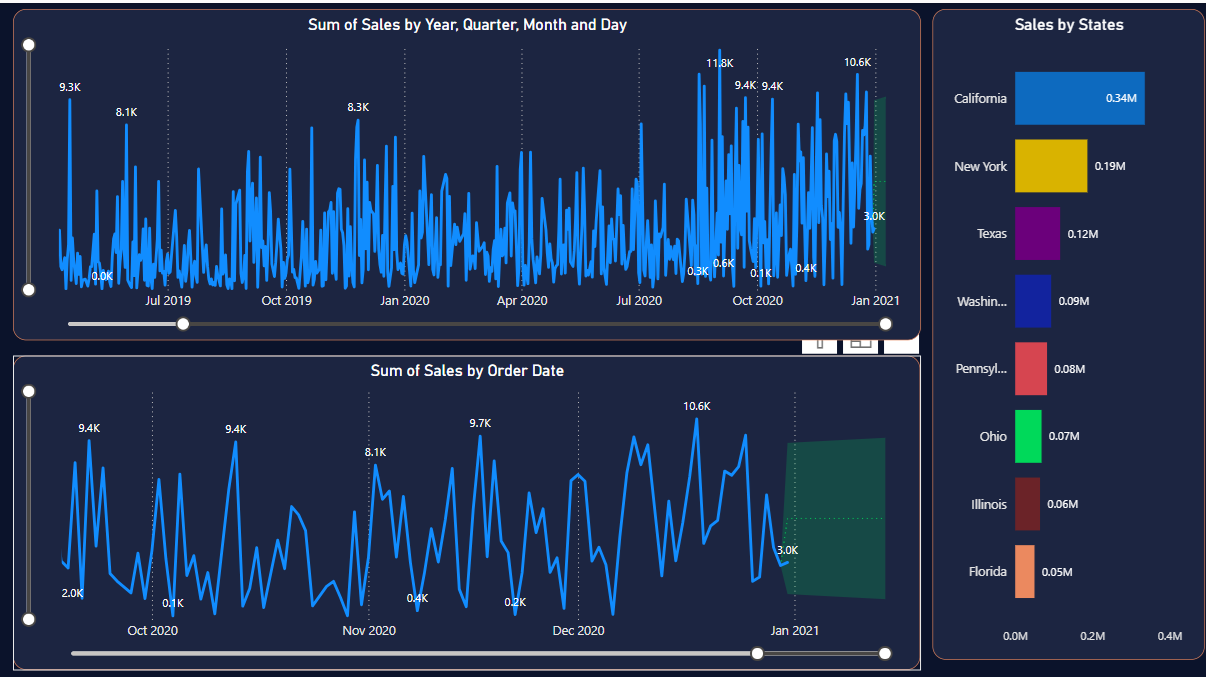

The dashboard page shown, as its layout file describes it:
{"tool":"powerbi","page":{"name":"Page 2","canvas":[1280,720],"ordinal":1},"visuals":[{"type":"lineChart","fields":{"Y":["Sum(SuperStore_Sales_Dataset (1).Sales)"],"Category":["SuperStore_Sales_Dataset (1).Order Date"]},"box":[15.9,374.3,962.3,333.2],"z":0},{"type":"clusteredBarChart","title":"Sales by States","fields":{"Y":["Sum(SuperStore_Sales_Dataset (1).Sales)"],"Category":["SuperStore_Sales_Dataset (1).State"]},"box":[991,6.3,288.5,689.9],"z":1000},{"type":"lineChart","fields":{"Y":["Sum(SuperStore_Sales_Dataset (1).Sales)"],"Category":["SuperStore_Sales_Dataset (1).Order Date.Variation.Date Hierarchy.Year","SuperStore_Sales_Dataset (1).Order Date.Variation.Date Hierarchy.Quarter","SuperStore_Sales_Dataset (1).Order Date.Variation.Date Hierarchy.Month","SuperStore_Sales_Dataset (1).Order Date.Variation.Date Hierarchy.Day"]},"box":[15.7,6.3,962.7,351.2],"z":2000}]}

Visuals, with their boxes in screenshot pixels (x1, y1, x2, y2), scaled from the page's 1280x720 canvas onto the 1206x677 screenshot:
lineChart - Sum(SuperStore_Sales_Dataset (1).Sales) x SuperStore_Sales_Dataset (1).Order Date: l=15, t=352, r=922, b=665
"Sales by States" clusteredBarChart: l=934, t=6, r=1205, b=655
lineChart - Sum(SuperStore_Sales_Dataset (1).Sales) x SuperStore_Sales_Dataset (1).Order Date.Variation.Date Hierarchy.Year: l=15, t=6, r=922, b=336
